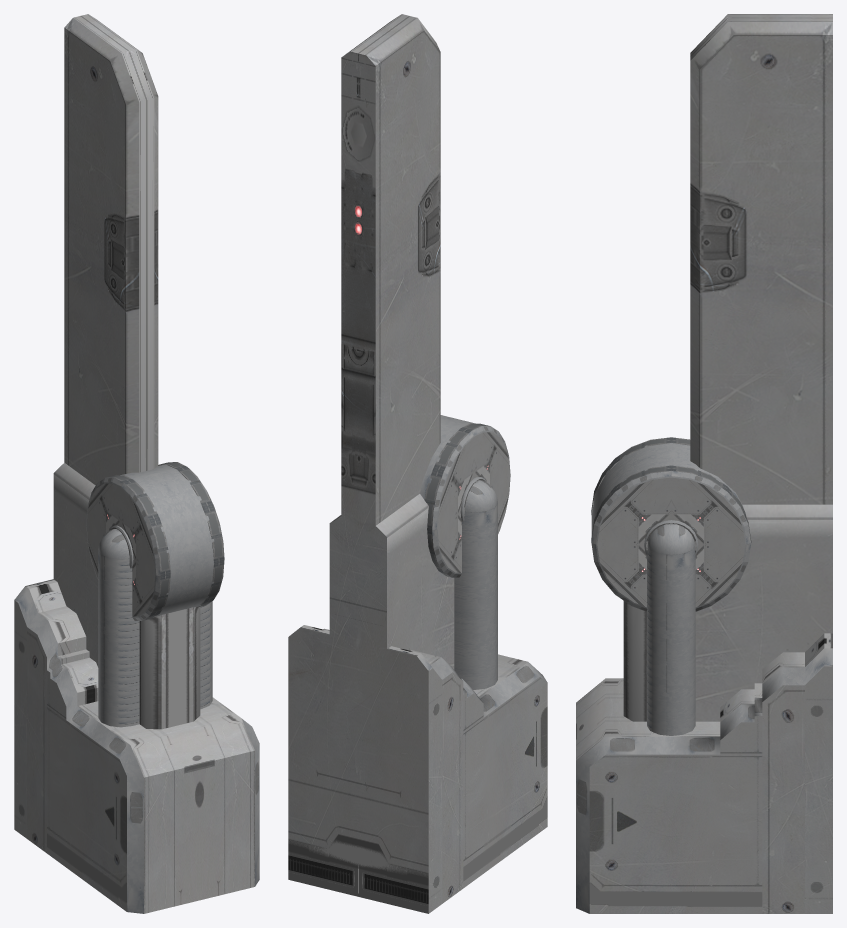
The model's file is SM_SPillarS05b.fbx.
The picture shows the model from 3 angles, left to right: view 1: azimuth 30°, elevation 25°; view 2: azimuth 150°, elevation 25°; view 3: azimuth 270°, elevation 25°; orthographic projection. The views are drawn at different scales.
Parts seen in each view (by area): view 1: SM_SPillarS05b_LOD0; view 2: SM_SPillarS05b_LOD0; view 3: SM_SPillarS05b_LOD0.
Part boxes in pixels (bbox=[...]): SM_SPillarS05b_LOD0: bbox=[14, 14, 259, 913]; SM_SPillarS05b_LOD0: bbox=[288, 14, 547, 913]; SM_SPillarS05b_LOD0: bbox=[576, 14, 832, 913].
Size of the model in its own units: 61.24 by 95 by 351.
3 materials, 3 textured.
